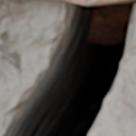brick: (64, 0, 124, 4)
crack: (2, 0, 135, 135)
